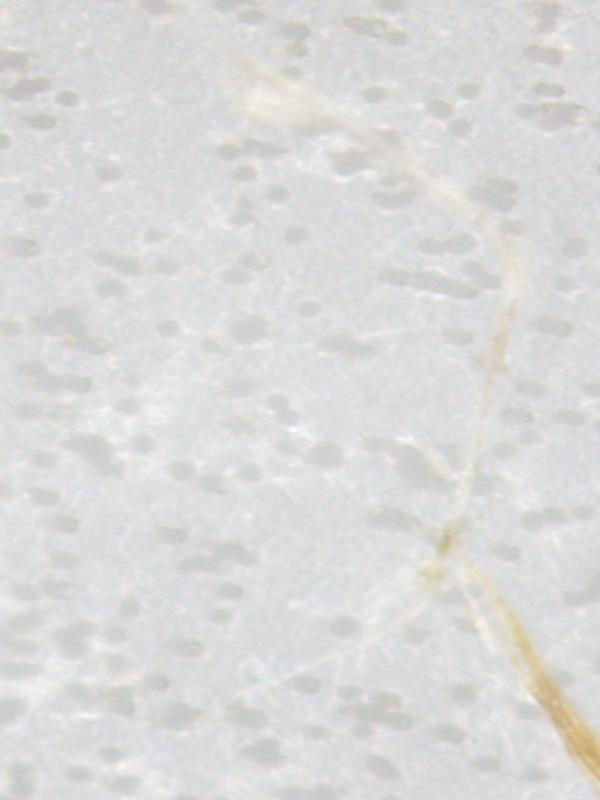microplastic: (1, 0, 597, 799)
